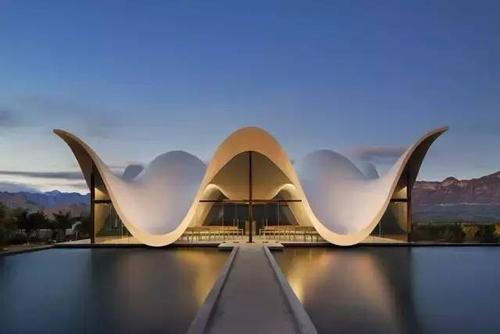buildings: (179, 128, 327, 243)
